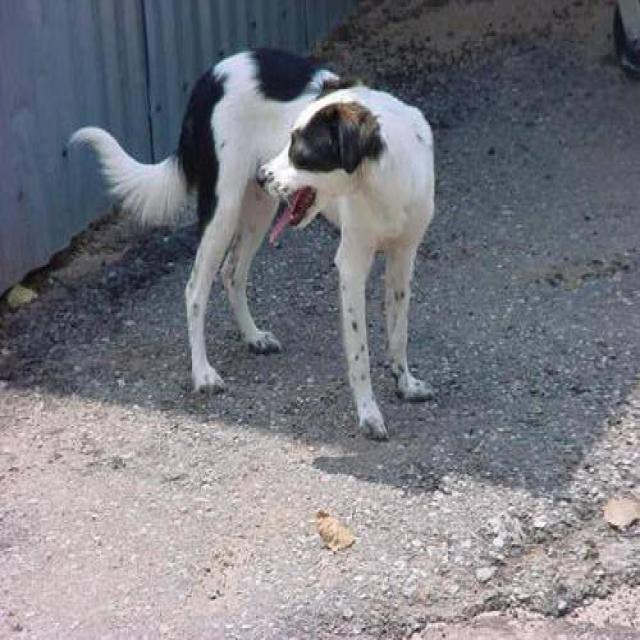dog: (65, 44, 361, 396), (254, 82, 436, 440)
